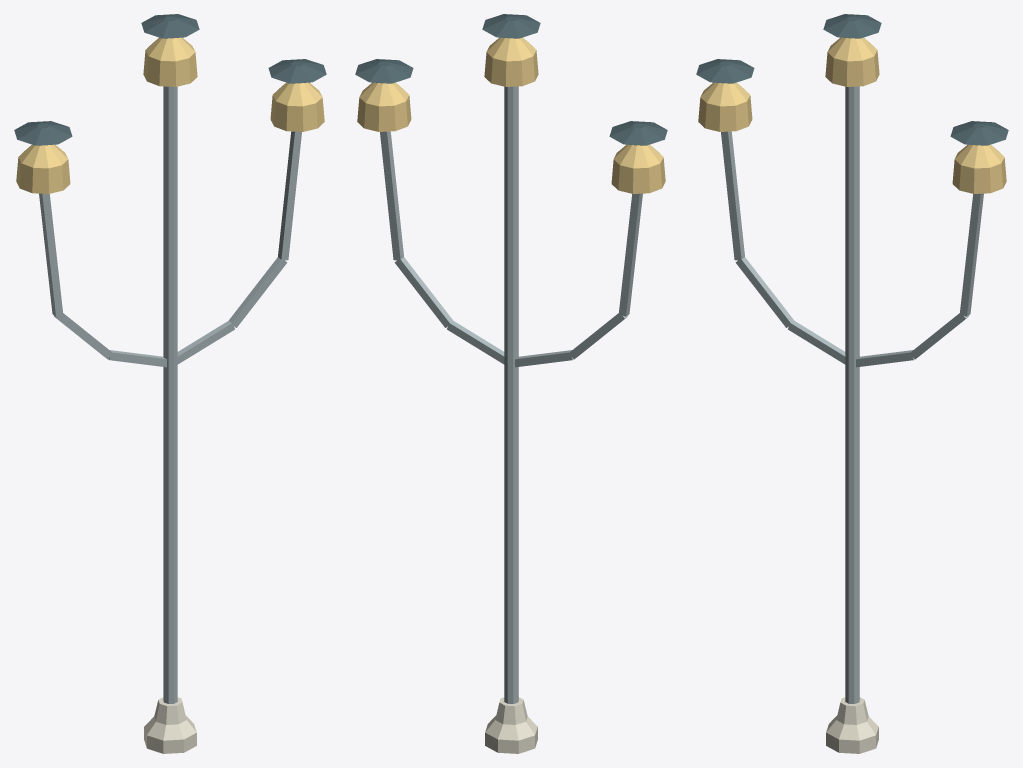
Rendered from KOL_HBR_PROP_01.fbx.
3 views of the same model, side by side, from view 1: azimuth 30°, elevation 25°; view 2: azimuth 150°, elevation 25°; view 3: azimuth 330°, elevation 25° (orthographic).
Parts seen in each view (by area): view 1: KOL_HBR_PROP_01__Model__Steel, KOL_HBR_PROP_01__Model__Lamp, KOL_HBR_PROP_01__Model__DarkSteel, KOL_HBR_PROP_01__Model__White; view 2: KOL_HBR_PROP_01__Model__Steel, KOL_HBR_PROP_01__Model__Lamp, KOL_HBR_PROP_01__Model__DarkSteel, KOL_HBR_PROP_01__Model__White; view 3: KOL_HBR_PROP_01__Model__Steel, KOL_HBR_PROP_01__Model__Lamp, KOL_HBR_PROP_01__Model__DarkSteel, KOL_HBR_PROP_01__Model__White.
Boxes of the visible parts, x1,y1,x2,y2 form: KOL_HBR_PROP_01__Model__Steel: (39,86,301,703); KOL_HBR_PROP_01__Model__Lamp: (16,37,324,193); KOL_HBR_PROP_01__Model__DarkSteel: (14,14,326,145); KOL_HBR_PROP_01__Model__White: (144,697,196,753); KOL_HBR_PROP_01__Model__Steel: (380,86,642,703); KOL_HBR_PROP_01__Model__Lamp: (357,37,665,193); KOL_HBR_PROP_01__Model__DarkSteel: (355,14,667,145); KOL_HBR_PROP_01__Model__White: (485,697,537,753); KOL_HBR_PROP_01__Model__Steel: (721,86,983,703); KOL_HBR_PROP_01__Model__Lamp: (698,37,1006,193); KOL_HBR_PROP_01__Model__DarkSteel: (696,14,1008,145); KOL_HBR_PROP_01__Model__White: (826,697,878,753).
Size of the model in its own units: 8.44 by 19.05 by 1.44.
